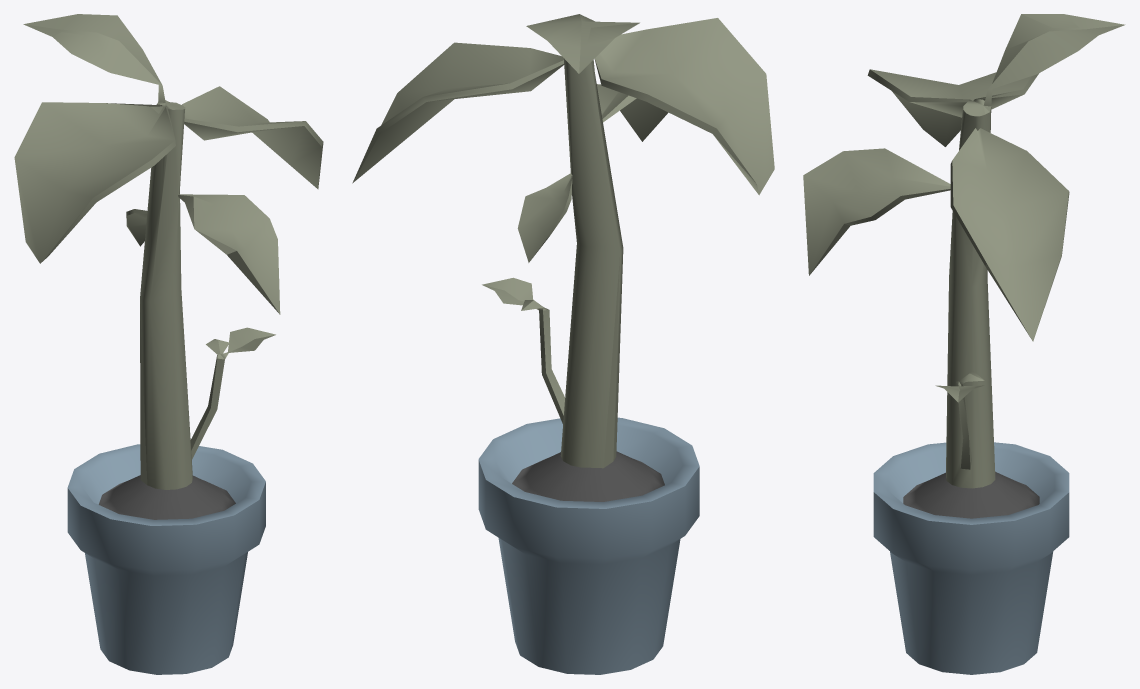
Rendered from kamerplant.fbx.
3 views of the same model, side by side, from view 1: azimuth 30°, elevation 25°; view 2: azimuth 150°, elevation 25°; view 3: azimuth 270°, elevation 25° (orthographic). The views are drawn at different scales.
Visible parts, largest first — view 1: plant1:pCylinder1, pCylinder1; view 2: plant1:pCylinder1, pCylinder1; view 3: plant1:pCylinder1, pCylinder1.
Boxes of the visible parts, x1,y1,x2,y2 form: plant1:pCylinder1: (14, 14, 323, 489); pCylinder1: (67, 444, 265, 674); plant1:pCylinder1: (352, 14, 774, 468); pCylinder1: (478, 417, 699, 674); plant1:pCylinder1: (803, 14, 1125, 488); pCylinder1: (873, 442, 1069, 674).
Size of the model in its own units: 1.08 by 1.88 by 0.9153.
